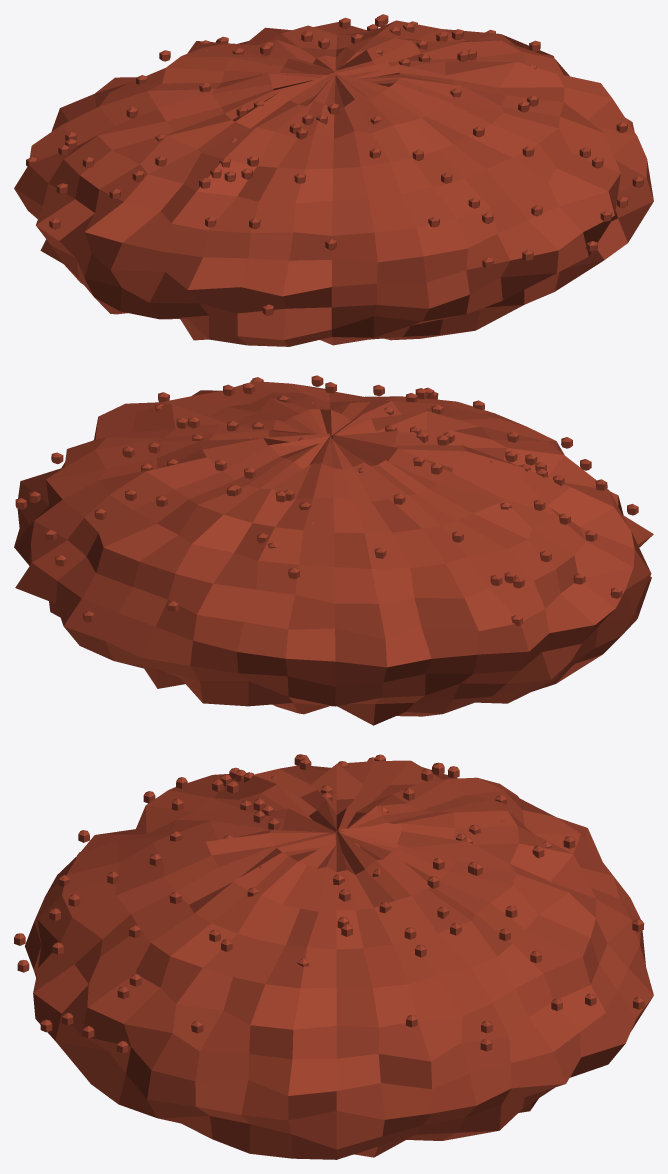
Rendered from RedPepper.glb.
The picture shows the model from 3 angles, top to bottom: view 1: azimuth 30°, elevation 25°; view 2: azimuth 150°, elevation 25°; view 3: azimuth 270°, elevation 25°; orthographic projection. The views are drawn at different scales.
Parts seen in each view (by area): view 1: RedPepper; view 2: RedPepper; view 3: RedPepper.
Boxes of the visible parts, x1,y1,x2,y2 form: RedPepper: (14,14,653,346); RedPepper: (14,375,653,725); RedPepper: (14,754,653,1159).
Size of what is drawn, in the model's own units: 0.0719 by 0.0279 by 0.0632.
